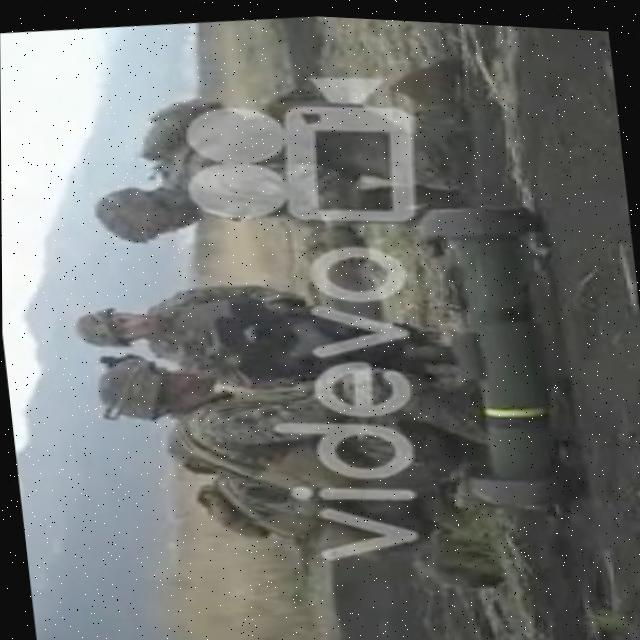rocket: (399, 190, 575, 515)
